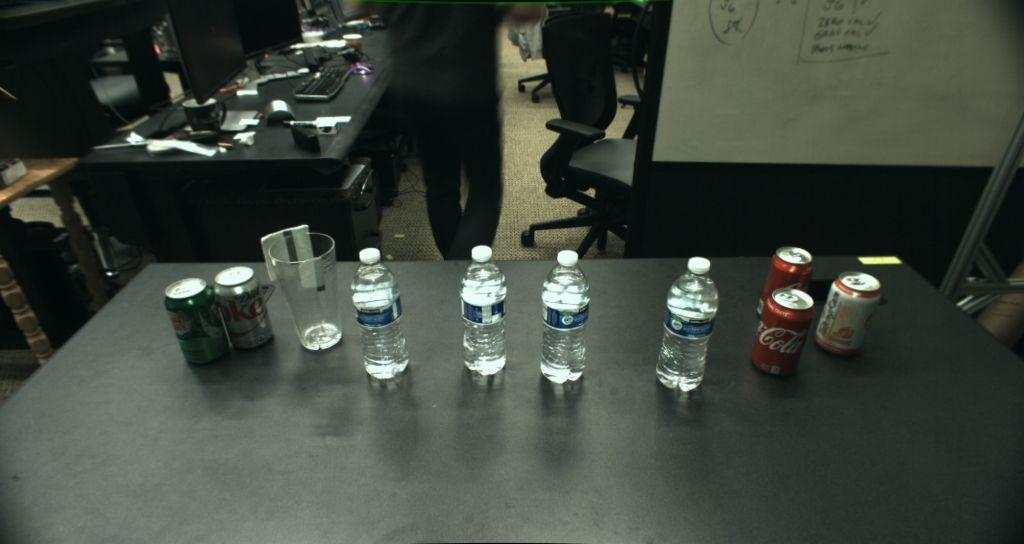can_coke: (751, 289, 815, 376)
can_diet_coke: (214, 266, 274, 351)
can_ginger_ale: (165, 279, 229, 363)
can_talking_rain_peach_nectarine: (815, 271, 881, 357)
water_bottle: (656, 256, 718, 392), (351, 247, 409, 379), (541, 250, 590, 384), (460, 244, 507, 376)
